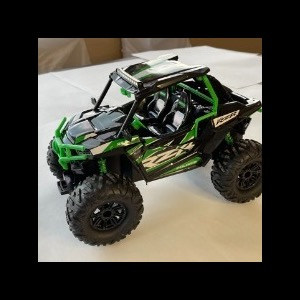polaris: (46, 54, 261, 247)
